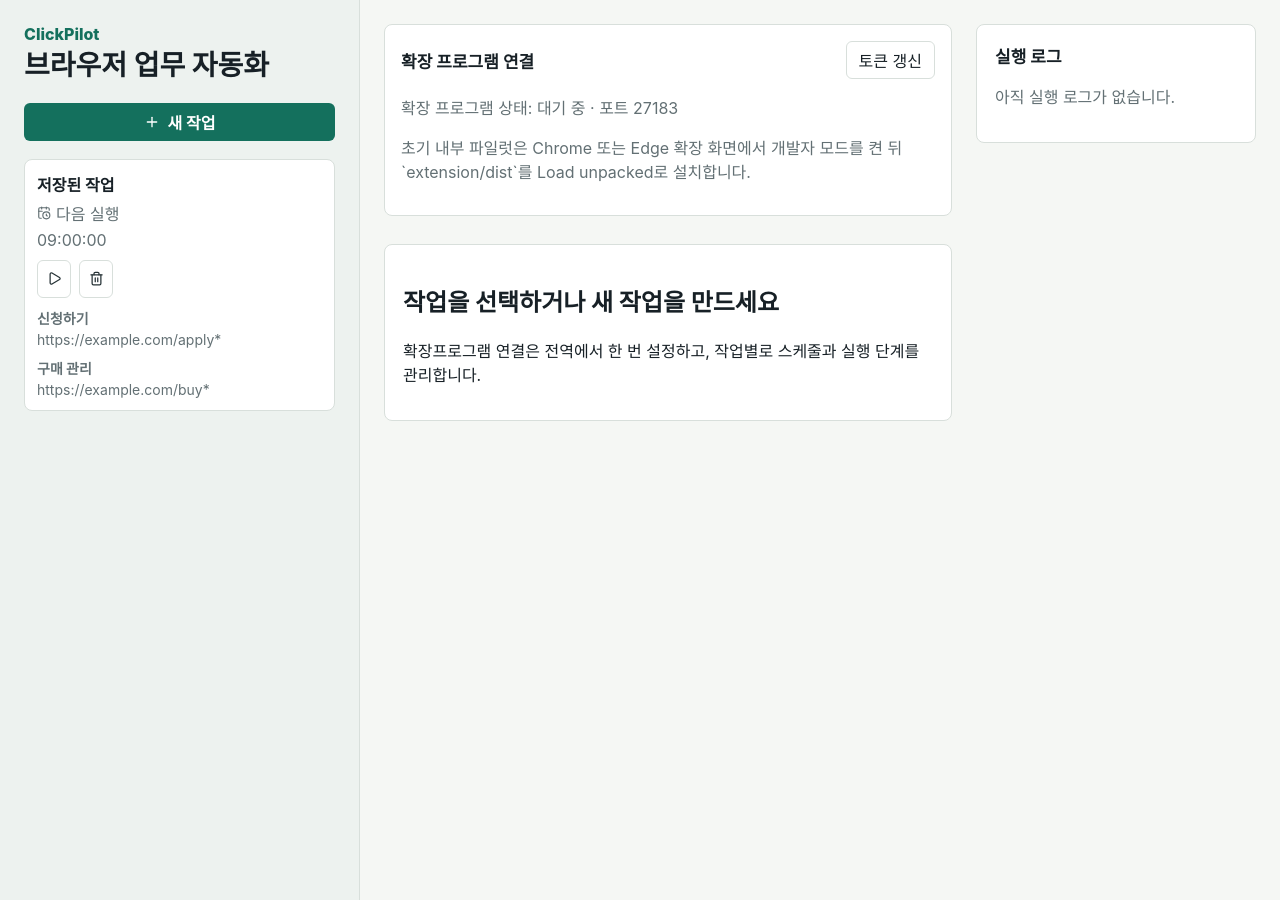
Test: ClickPilot task workflow › deletes one configured click step without deleting the task draft
Click the text "저장된 작업": (76, 185) x1=37 y1=175 x2=114 y2=195
(page scrolled)
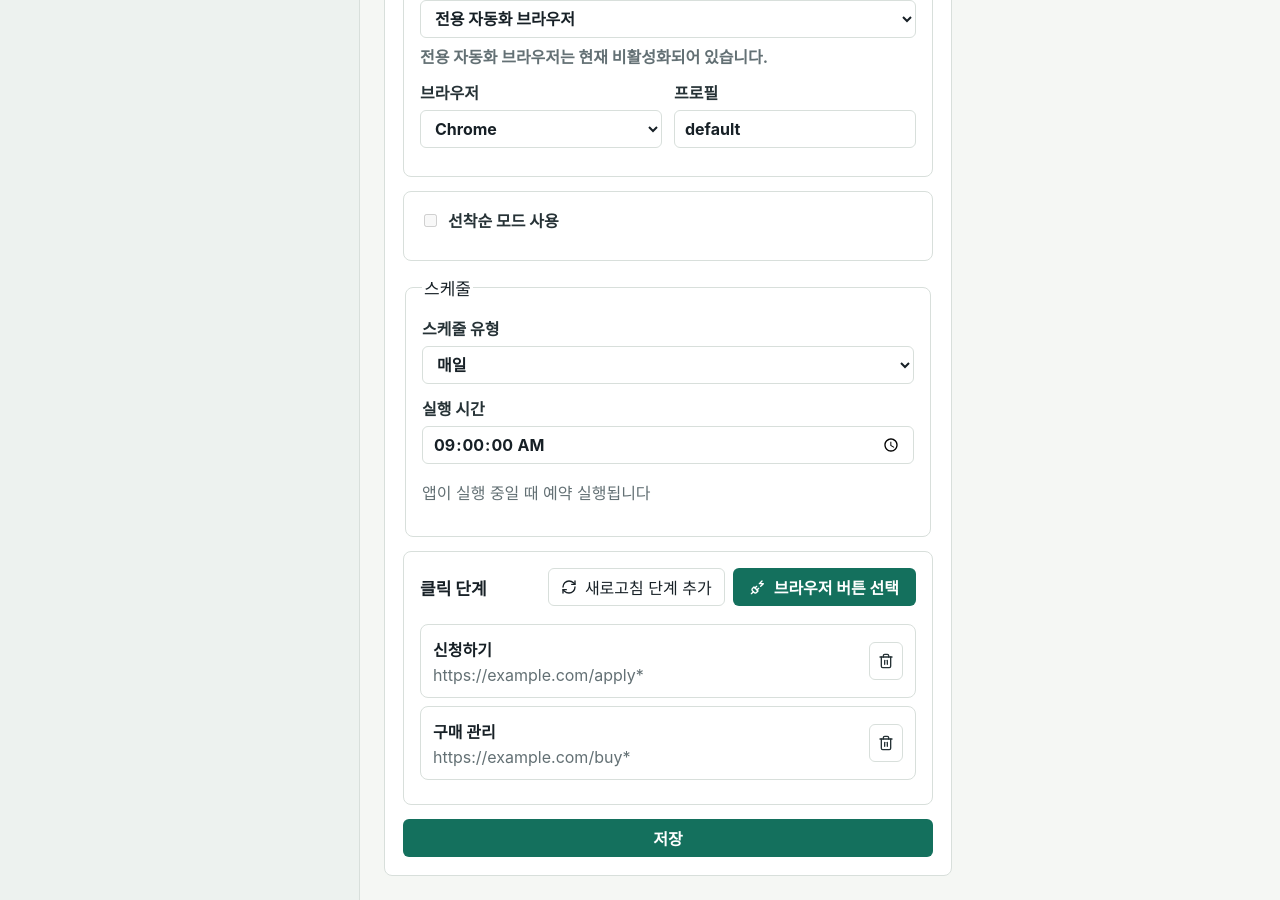
Click the button named "단계 삭제 브라우저 신청하기": (886, 661) x1=869 y1=642 x2=903 y2=680
(page scrolled)
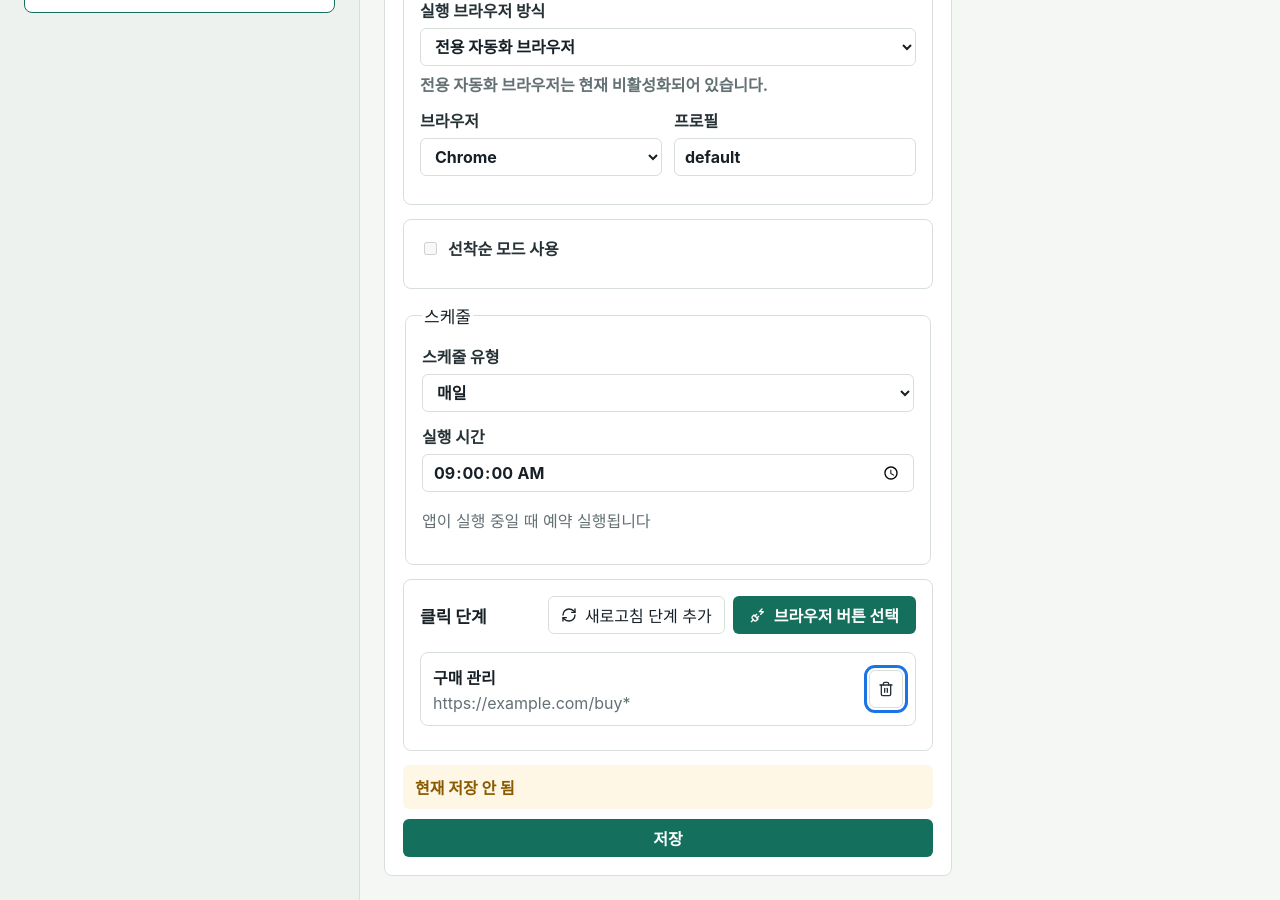
Expected: the text "신청하기" is not shown
Expected: the text "구매 관리" is shown, x1=433 y1=668 x2=496 y2=688
Expected: the text "현재 저장 안 됨" is shown, x1=403 y1=765 x2=933 y2=809
